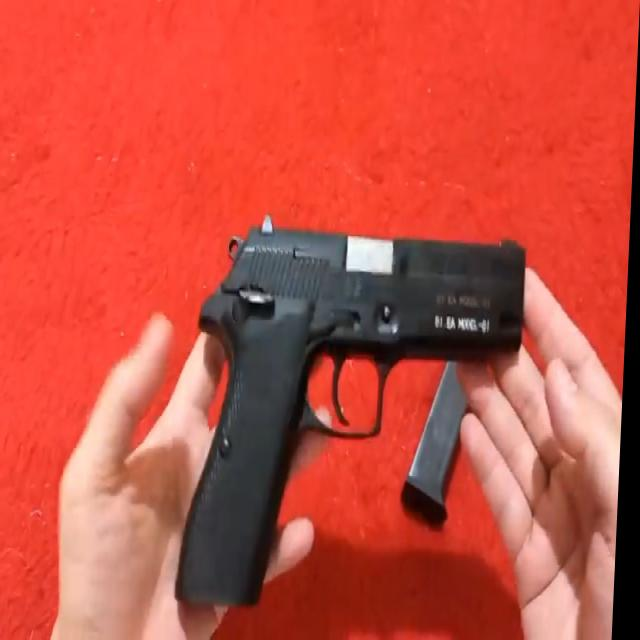handgun: (162, 215, 538, 628)
